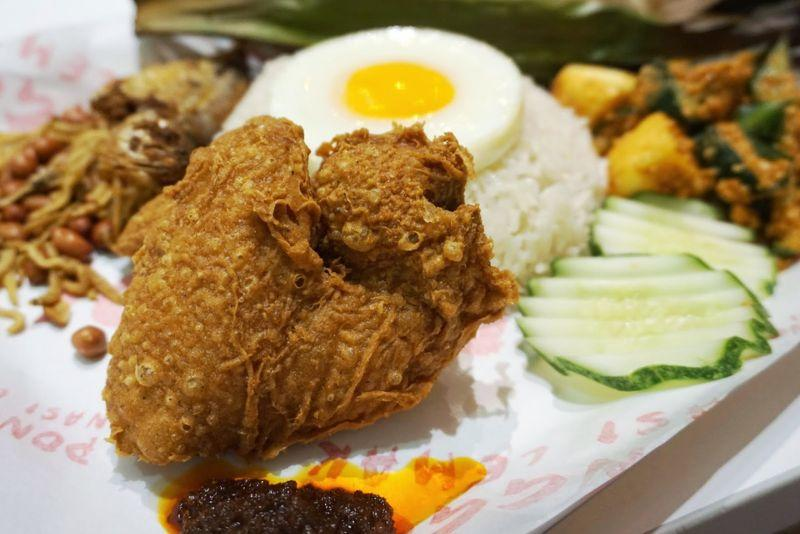Anchovies: (0, 117, 154, 324)
Cucumber: (517, 195, 779, 392)
Fried-Chicken: (101, 116, 502, 467)
Fried-Egg: (221, 29, 517, 173)
Peanuts: (69, 306, 123, 365), (91, 80, 139, 127)
Rice: (482, 79, 597, 285), (441, 316, 527, 414)
